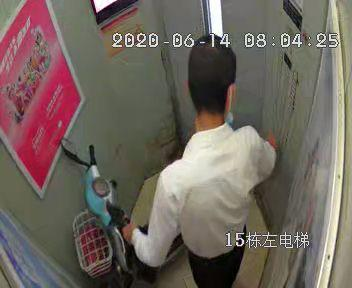Electric-bicycle: (58, 137, 156, 278)
